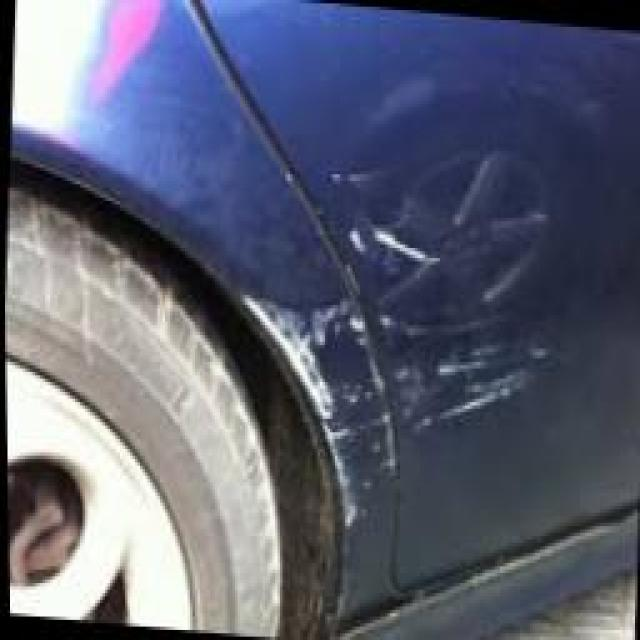Door: (289, 122, 559, 482)
Fender: (228, 232, 401, 537)
